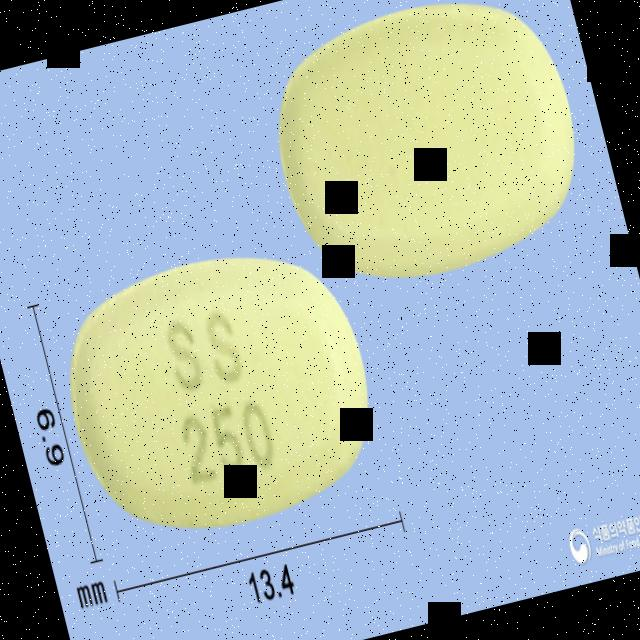Samsung Clarithromycin Tab: (42, 224, 394, 552)
